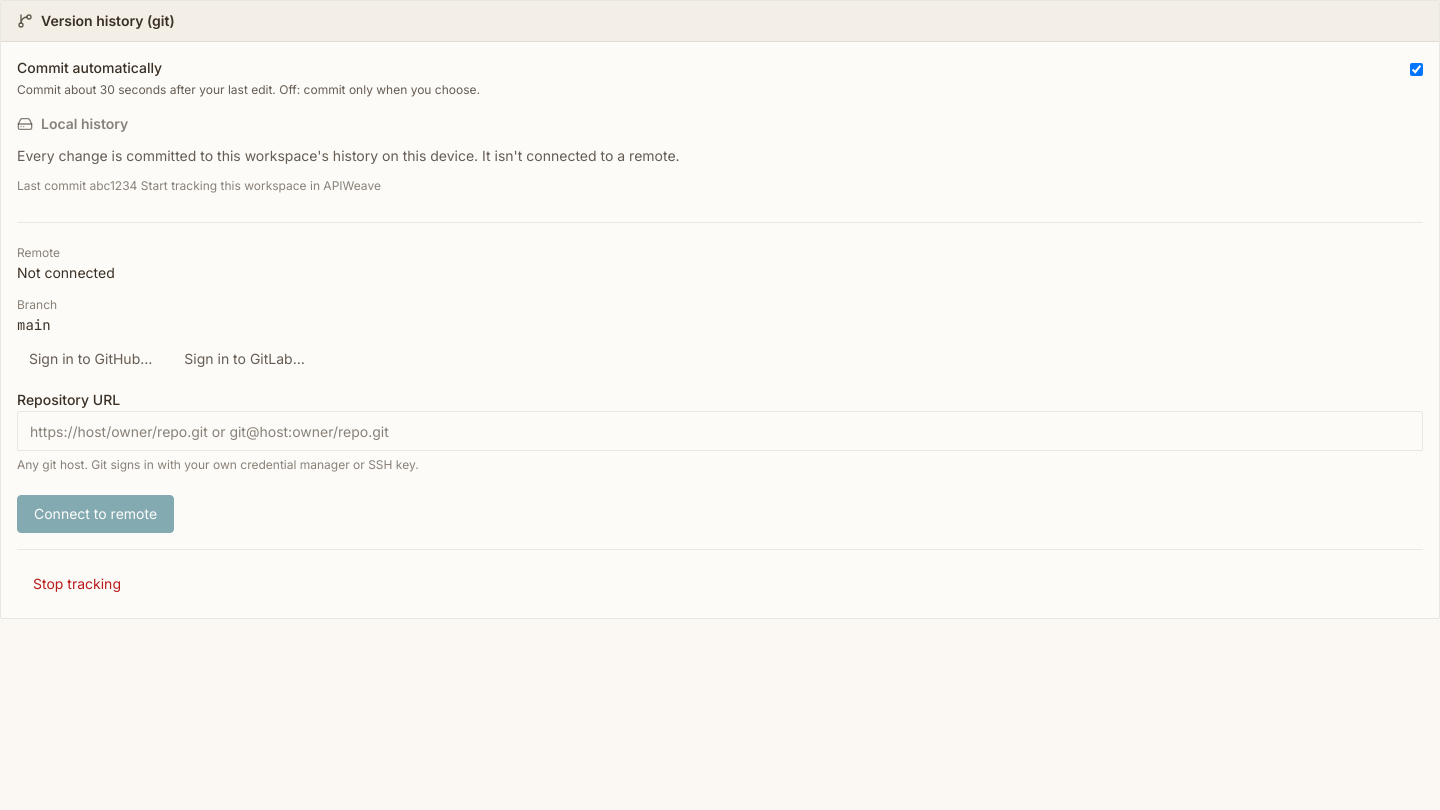
Test: VersionHistoryPanel › connects a remote by its trimmed URL when no account is signed in, and shows the status it returns
Expected: the text "Not connected" is shown, [17,264,115,281]
Expected: the button "Connect to remote" is disabled, [17,495,174,533]
Type "  git@github.com:acme/tests.git  " into the field named "Repository URL" at (720, 431), box [17,411,1423,451]
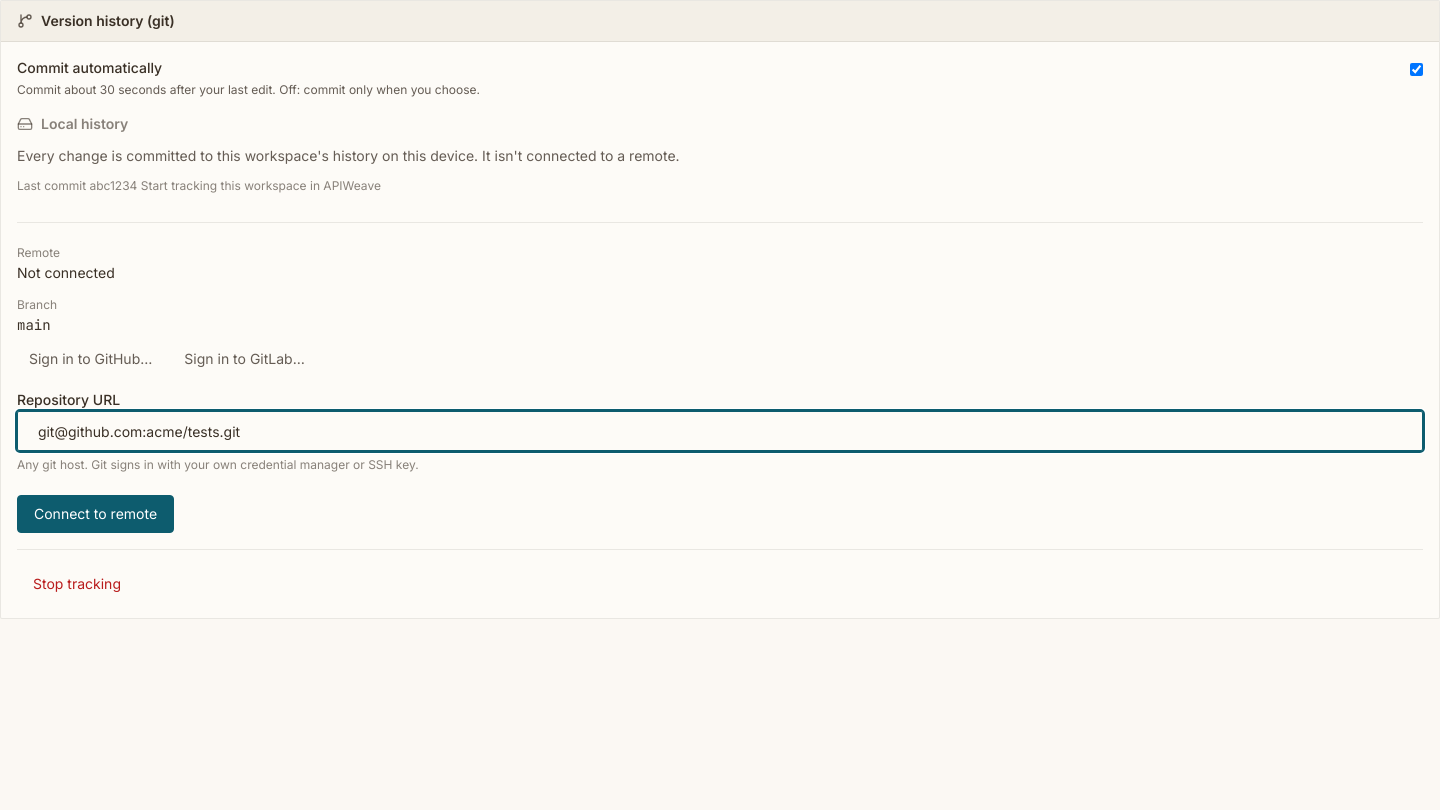
Click the button "Connect to remote" at (96, 514), box [17,495,174,533]
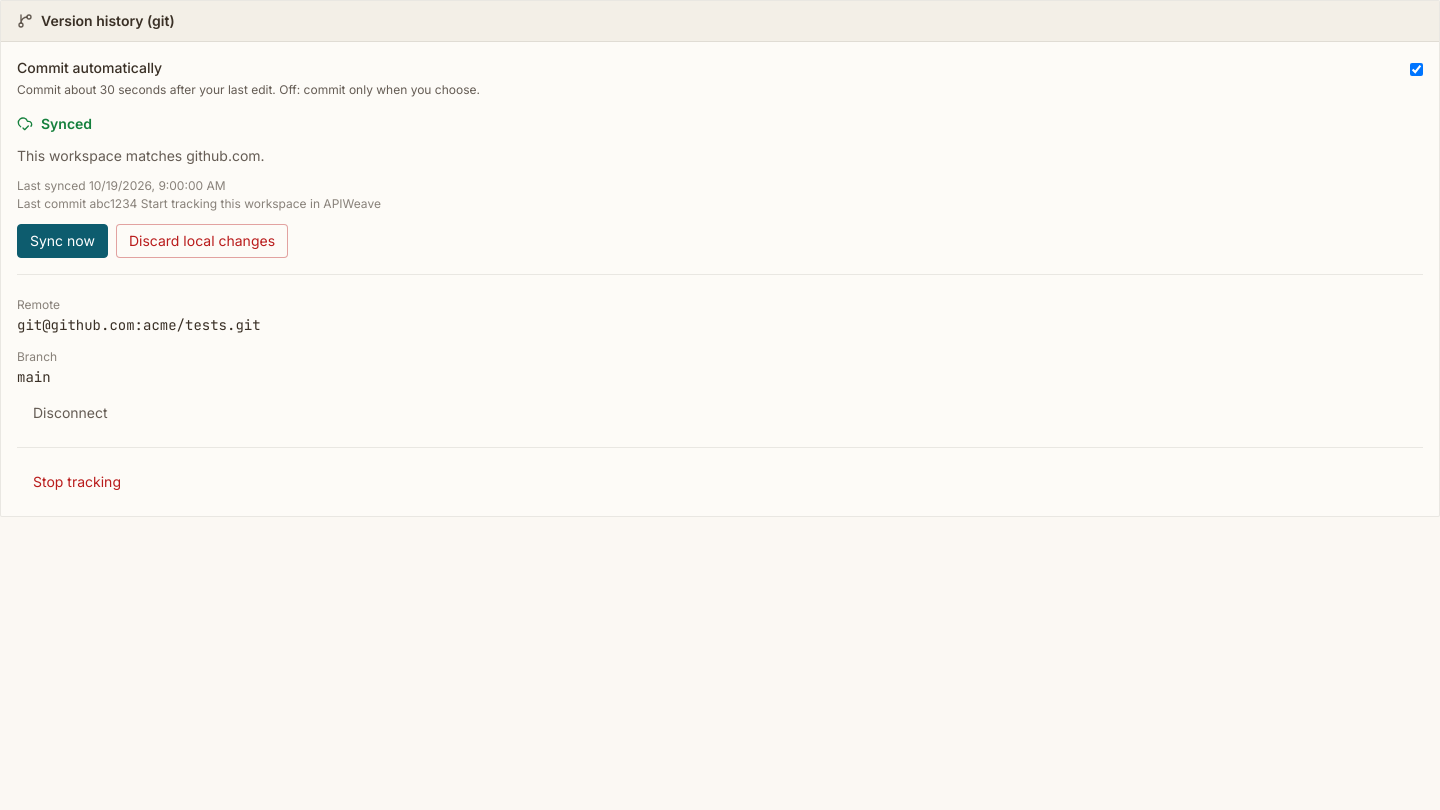
Expected: the text "git@github.com:acme/tests.git" is shown, [17,316,261,334]
Expected: the text "Repository URL" is gone
Expected: the button "Disconnect" is shown, [17,395,124,431]
